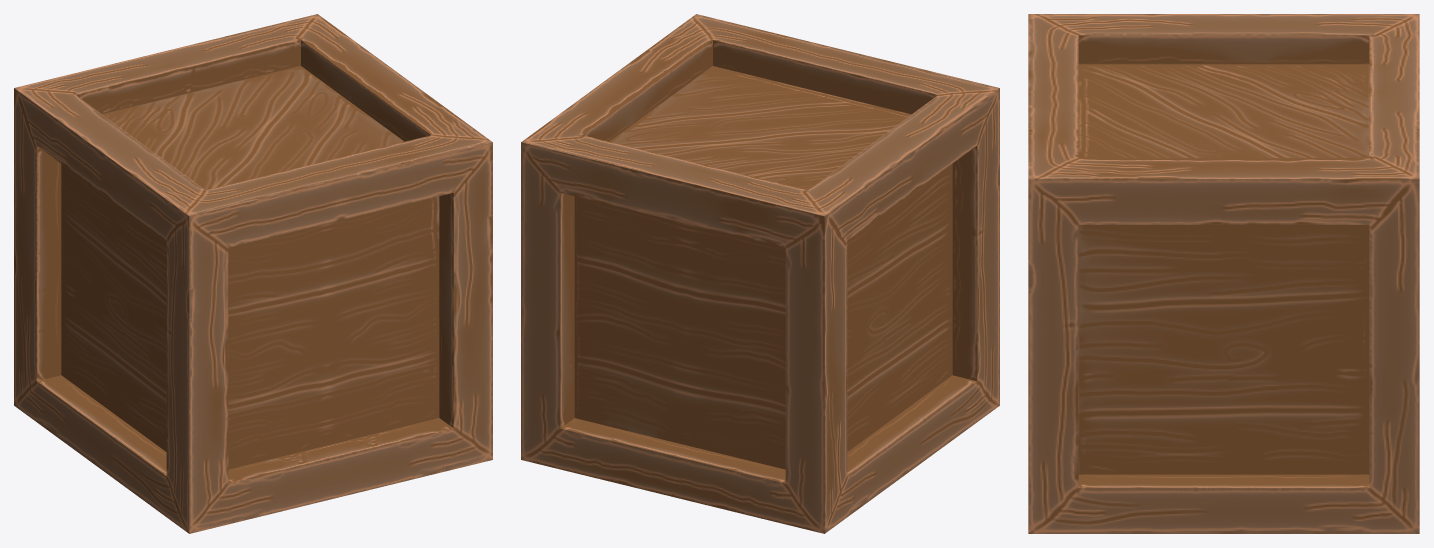
File: Crate.fbx
The picture shows the model from 3 angles, left to right: view 1: azimuth 30°, elevation 25°; view 2: azimuth 150°, elevation 25°; view 3: azimuth 270°, elevation 25°; orthographic projection. The views are drawn at different scales.
Visible parts, largest first — view 1: Cube; view 2: Cube; view 3: Cube.
Boxes of the visible parts, left/top/right/bottom form: Cube: left=14, top=14, right=492, bottom=533; Cube: left=521, top=14, right=999, bottom=533; Cube: left=1028, top=14, right=1419, bottom=533.
Bounding box in the file's own units: 57 × 57 × 57.
